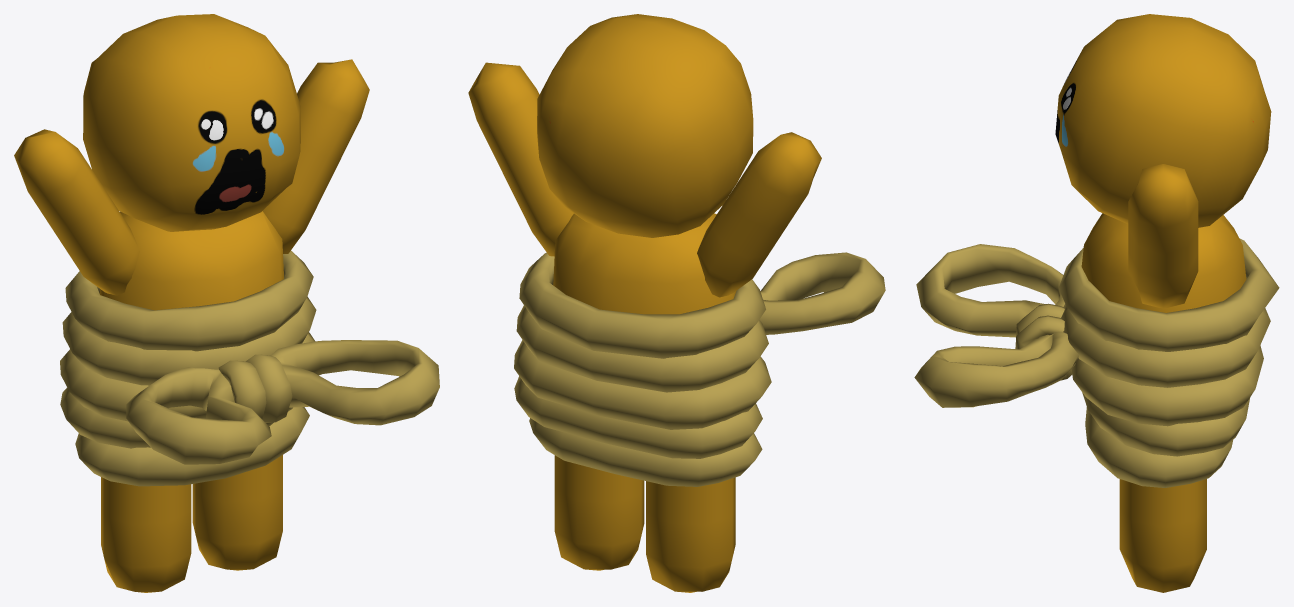
Rendered from TrolleyVictim.fbx.
3 renders of one model, left to right at view 1: azimuth 30°, elevation 25°; view 2: azimuth 150°, elevation 25°; view 3: azimuth 270°, elevation 25°, orthographic. The views are drawn at different scales.
Visible parts, largest first — view 1: Cube; view 2: Cube; view 3: Cube.
Boxes of the visible parts, x1=… form: Cube: x1=14, y1=14, x2=439, y2=592; Cube: x1=468, y1=14, x2=885, y2=592; Cube: x1=914, y1=14, x2=1279, y2=592.
Size of the model in its own units: 108 by 168 by 102.
Materials: 2 (1 with a texture image).
